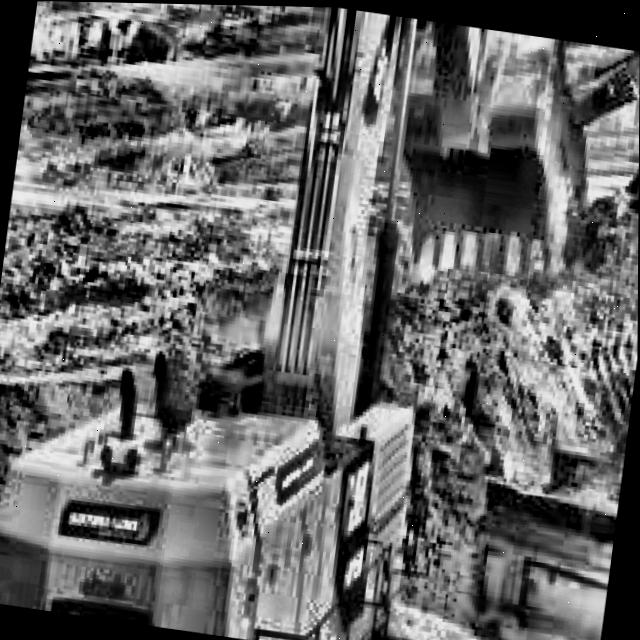excavator: (0, 0, 588, 640), (555, 39, 640, 229)
